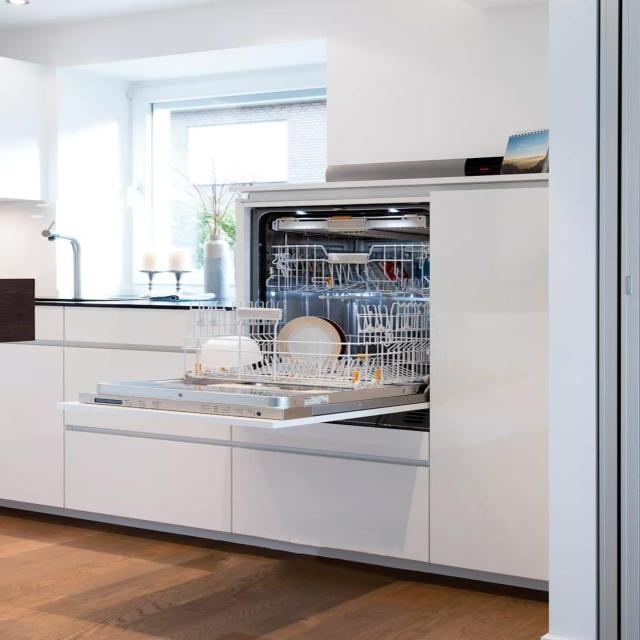dishwasher: (74, 194, 442, 436)
